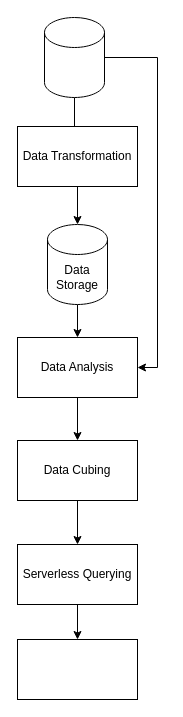
Image size: 183x717. Some labels were removed from this diagram. Each missing label, with the centre of its shape:
Data Ingestion: (74,57)
Data Visualization: (77,669)
